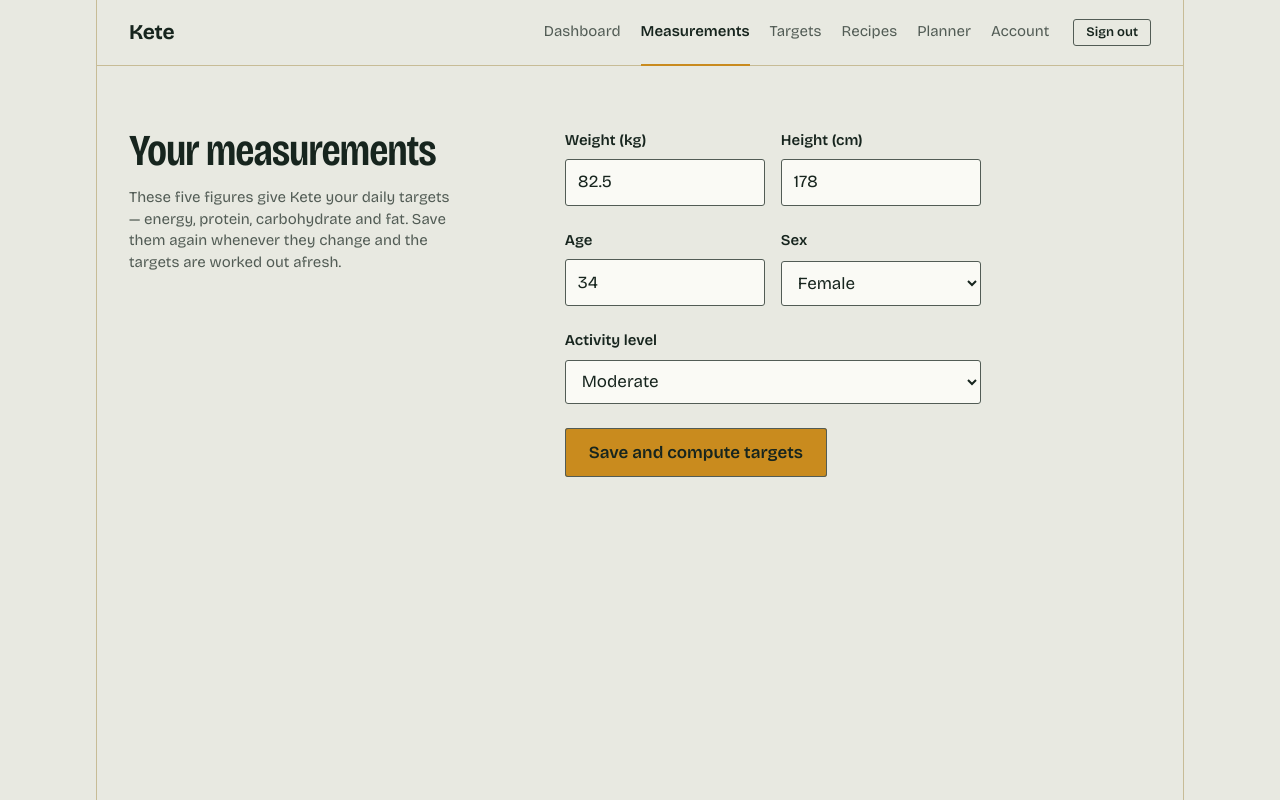
Test: the measurements form refused by the write › sends a 404 from the write to the error boundary
This screenshot has width=1280, height=800.
Replace the text in the number field labelled "Weight (kg)" with "90.5": (665, 182) x1=565 y1=159 x2=765 y2=206
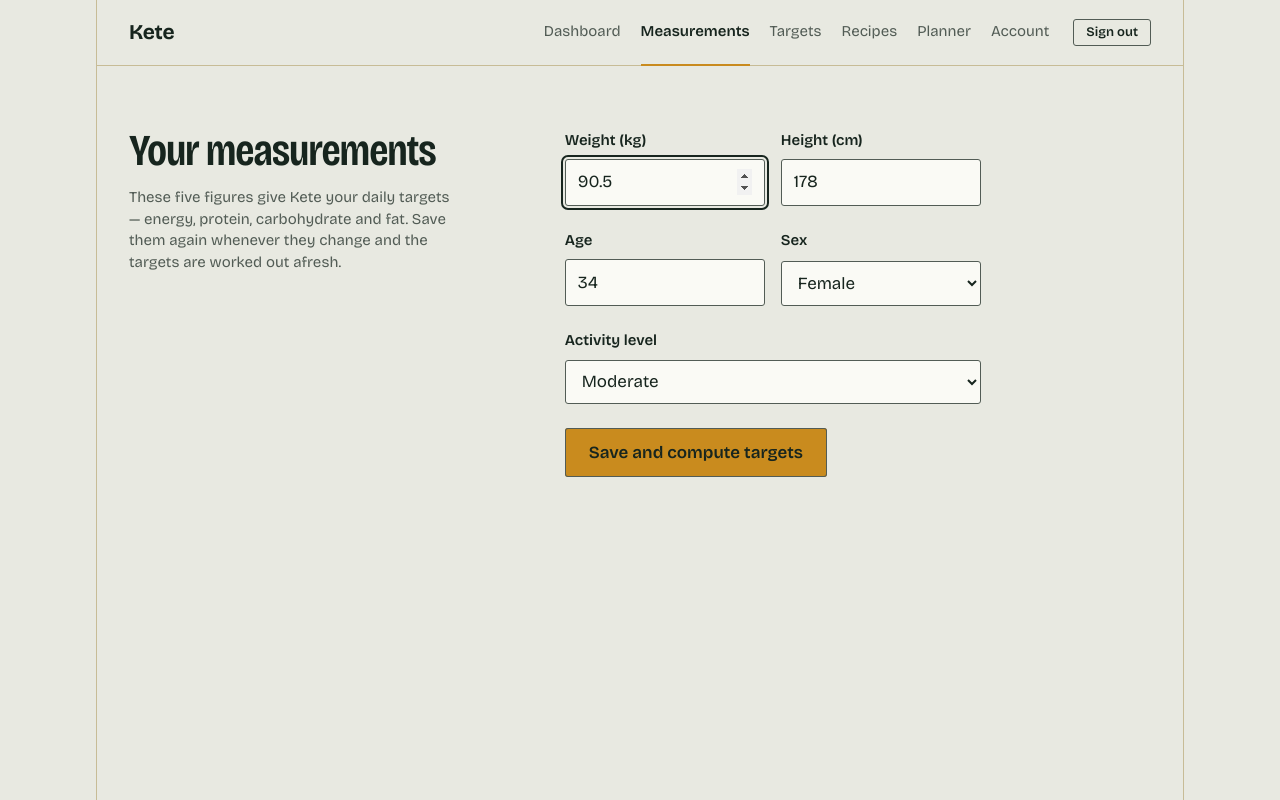
Click the button "Save and compute targets": (696, 452) x1=565 y1=428 x2=827 y2=477
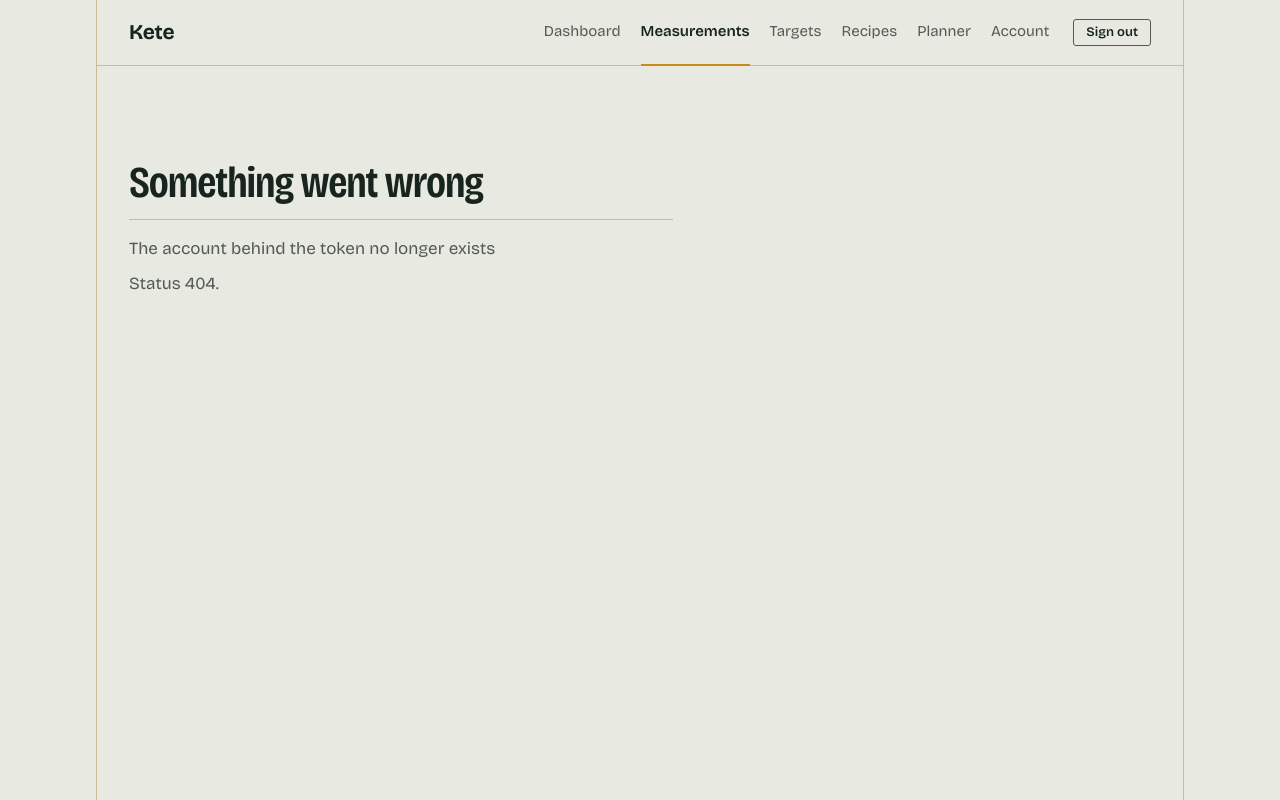
Expected: the text "Status 404." is shown, x1=129 y1=273 x2=219 y2=294
